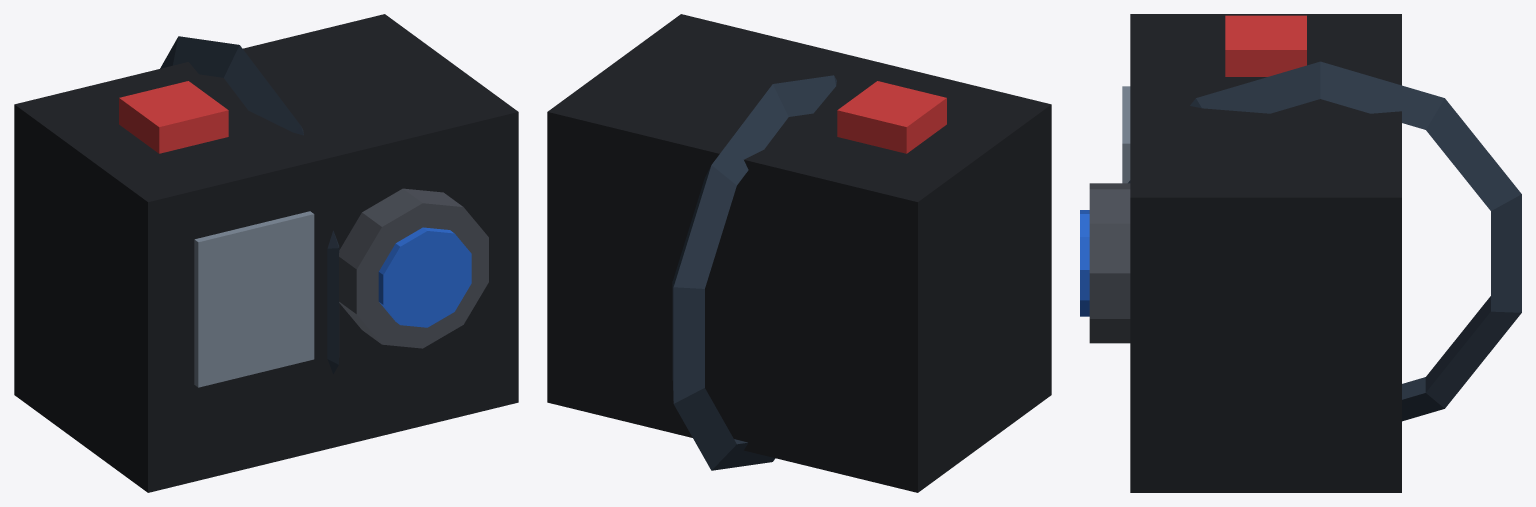
Rendered from gopro.glb.
The picture shows the model from 3 angles, left to right: view 1: azimuth 30°, elevation 25°; view 2: azimuth 150°, elevation 25°; view 3: azimuth 270°, elevation 25°; orthographic projection.
Visible parts, largest first — view 1: corpo, tela, lente_aro, lente, alca, botao; view 2: corpo, alca, botao; view 3: corpo, alca, lente_aro, botao, lente, tela.
Boxes of the visible parts, left/top/right/bottom form: corpo: left=14, top=14, right=518, bottom=492; tela: left=194, top=211, right=314, bottom=387; lente_aro: left=339, top=188, right=488, bottom=348; lente: left=378, top=227, right=471, bottom=327; alca: left=160, top=36, right=339, bottom=374; botao: left=119, top=81, right=228, bottom=153; corpo: left=547, top=14, right=1051, bottom=492; alca: left=672, top=75, right=836, bottom=470; botao: left=837, top=81, right=946, bottom=153; corpo: left=1130, top=14, right=1401, bottom=492; alca: left=1128, top=61, right=1521, bottom=421; lente_aro: left=1089, top=183, right=1130, bottom=343; botao: left=1225, top=15, right=1306, bottom=76; lente: left=1080, top=210, right=1089, bottom=316; tela: left=1122, top=86, right=1130, bottom=183.
Bounding box in the file's own units: 0.16 × 0.156 × 0.1627.
